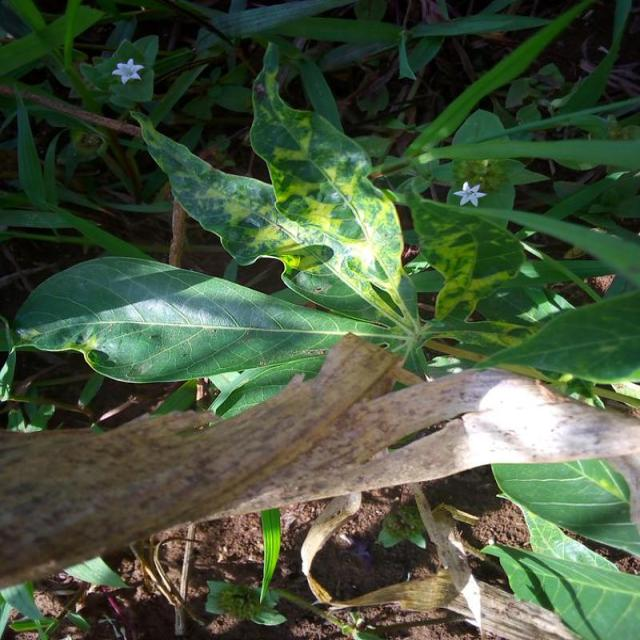cassava leaf: (9, 254, 414, 386), (406, 181, 525, 322)
